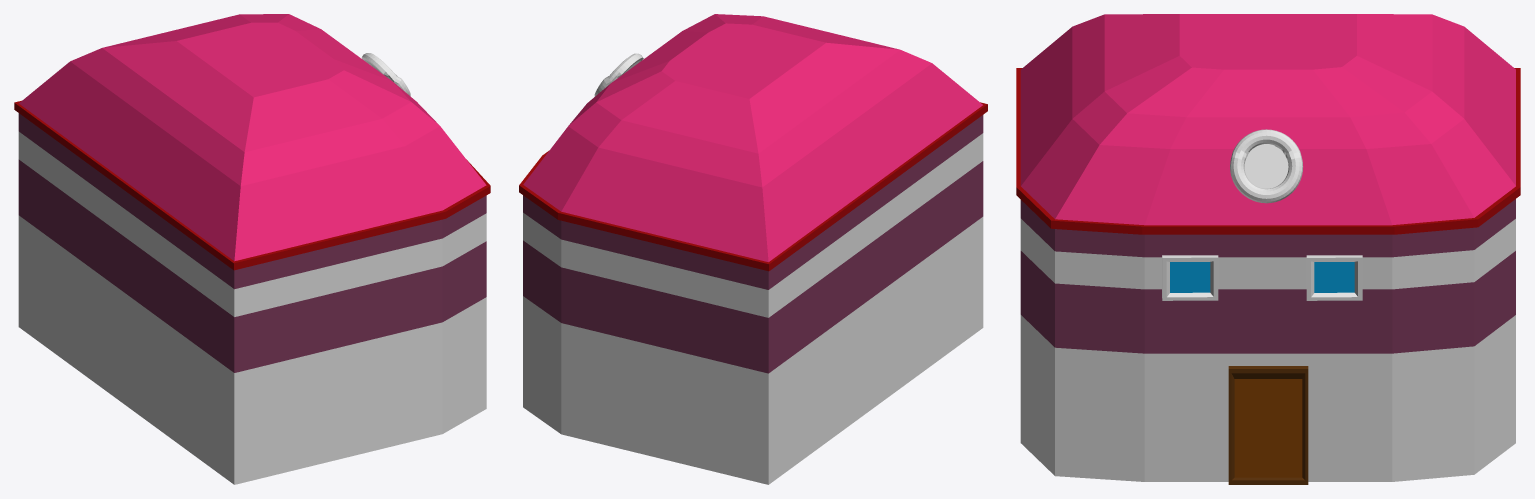
Rendered from center.fbx.
3 renders of one model, left to right at view 1: azimuth 30°, elevation 25°; view 2: azimuth 150°, elevation 25°; view 3: azimuth 270°, elevation 25°, orthographic. The views are drawn at different scales.
Parts seen in each view (by area): view 1: Cube, Torus; view 2: Cube, Torus; view 3: Cube, Cube.001, Cube.002, Torus.
Boxes of the visible parts, <box> form: Cube: <box>14,14,490,484</box>; Torus: <box>361,53,410,96</box>; Cube: <box>519,14,987,484</box>; Torus: <box>594,53,643,96</box>; Cube: <box>1016,14,1520,481</box>; Cube.001: <box>1228,366,1308,484</box>; Cube.002: <box>1162,255,1362,300</box>; Torus: <box>1230,129,1302,203</box>.
Bounding box in the file's own units: 489 × 517 × 653.
